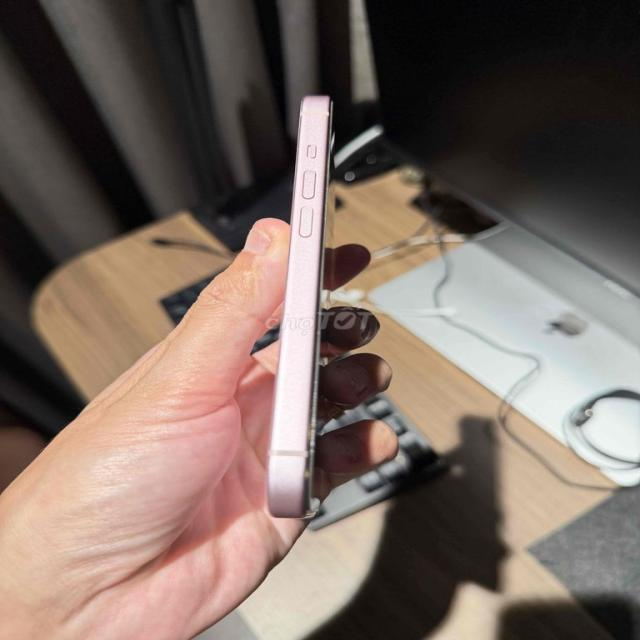gen_15: (240, 88, 365, 517)
